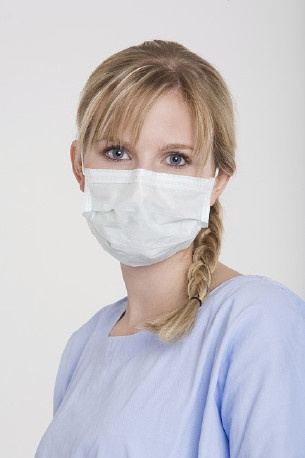Mask: (79, 119, 229, 269)
